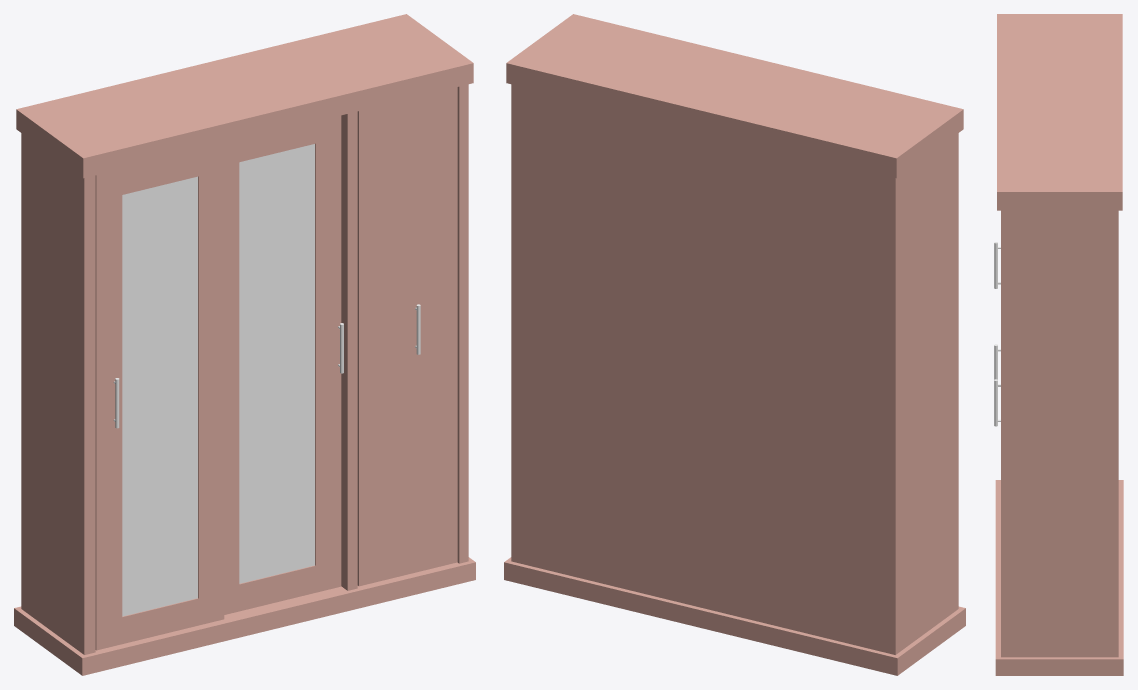
Rendered from Lemari_Pink_Yudi.glb.
3 renders of one model, left to right at view 1: azimuth 30°, elevation 25°; view 2: azimuth 150°, elevation 25°; view 3: azimuth 270°, elevation 25°, orthographic. The views are drawn at different scales.
Visible parts, largest first — view 1: Cube, Cylinder; view 2: Cube; view 3: Cube, Cylinder.
Part boxes in pixels (x1,y1,x2,y2): Cube: (14,14,475,675); Cylinder: (113,304,420,428); Cube: (504,14,965,675); Cube: (995,14,1123,675); Cylinder: (994,242,1000,426).
Bounding box in the file's own units: 3.34 × 4.19 × 1.02.
